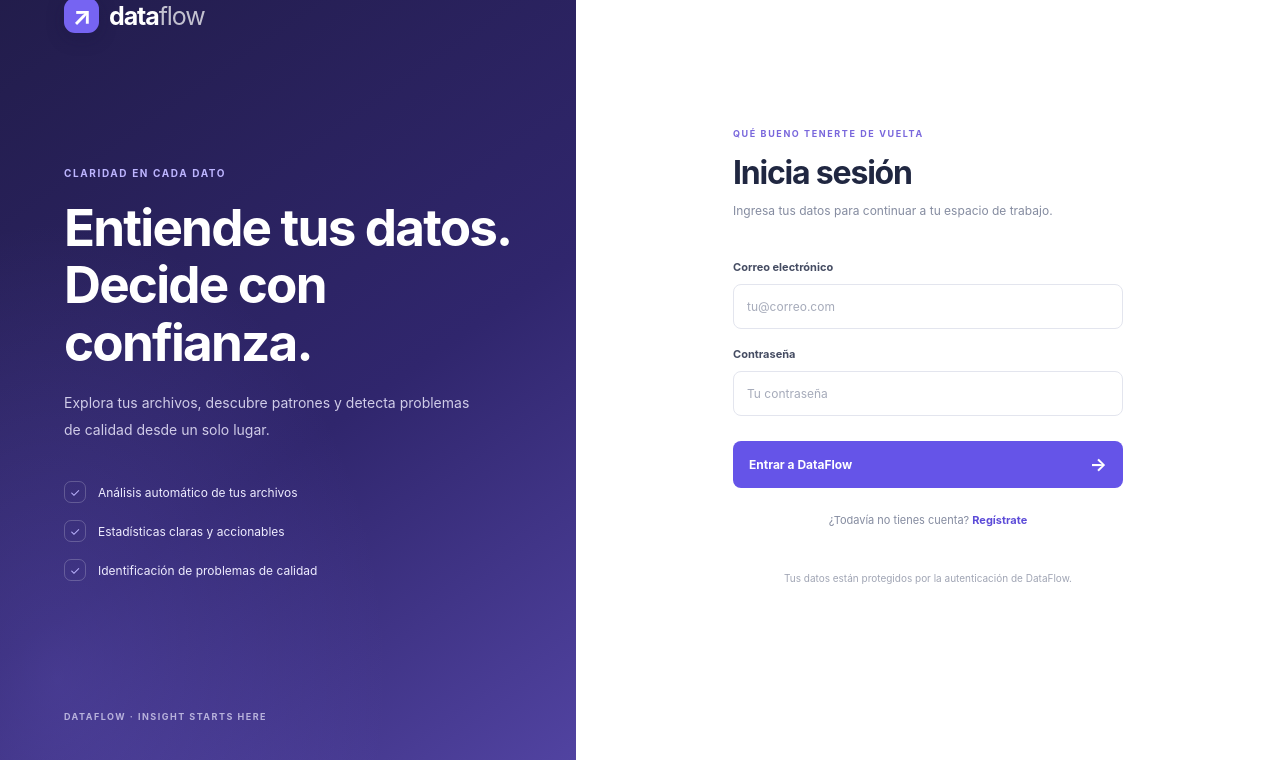
Test: App › cierra la sesión y elimina la sesión persistida
In the field labelled "Correo electrónico": (928,307) 733,284 -> 1123,329, type "test@dataflow.com"
In the password field labelled "Contraseña": (928,394) 733,371 -> 1123,416, type "password123"
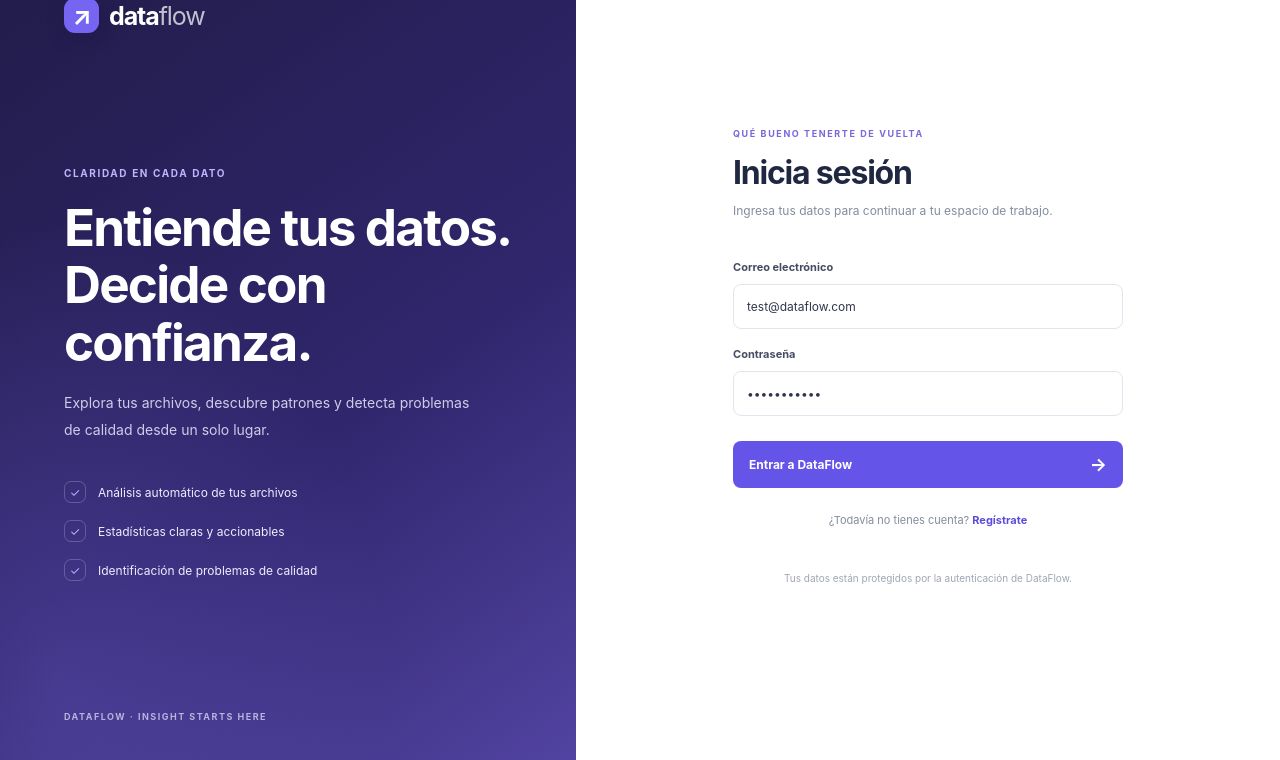
Click the button "Entrar a DataFlow →": (801,465) 733,441 -> 1123,488
(page scrolled)
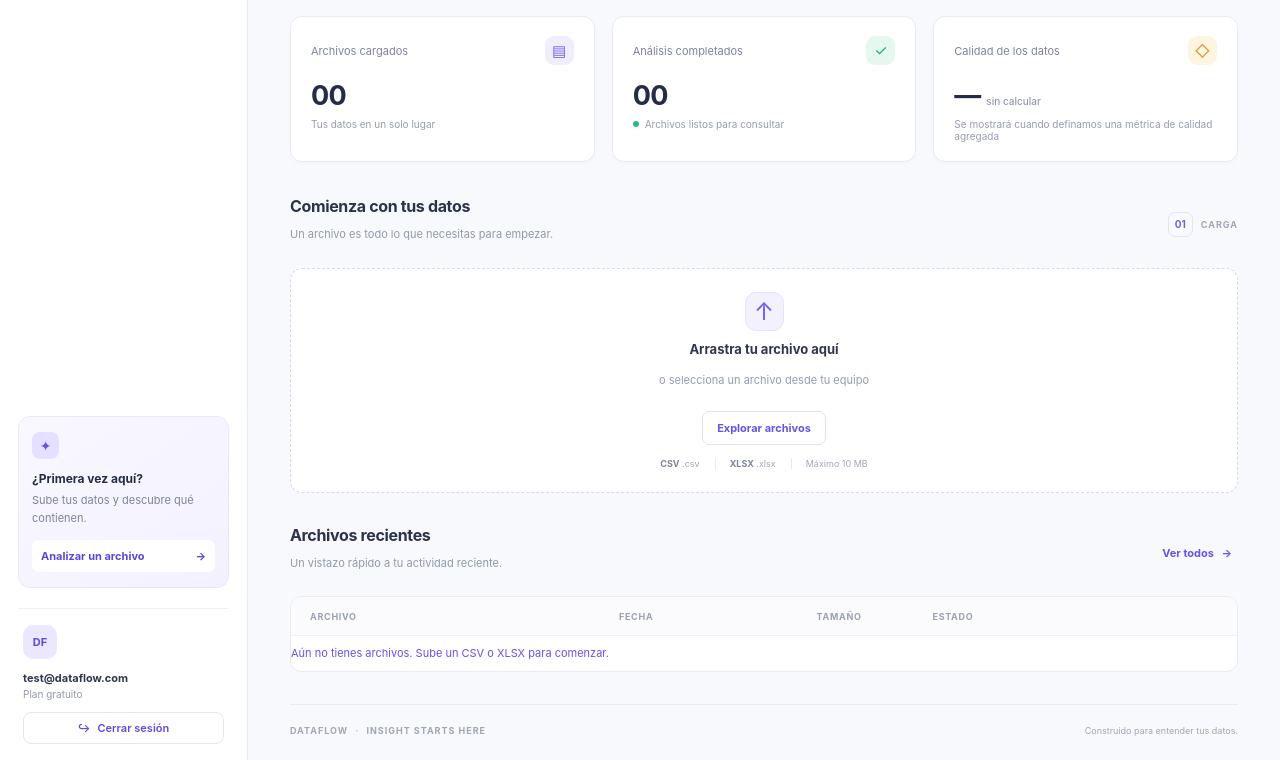
# Abrir el diálogo de confirmación.
Click the button "↪ Cerrar sesión": (124,728) 23,712 -> 224,744
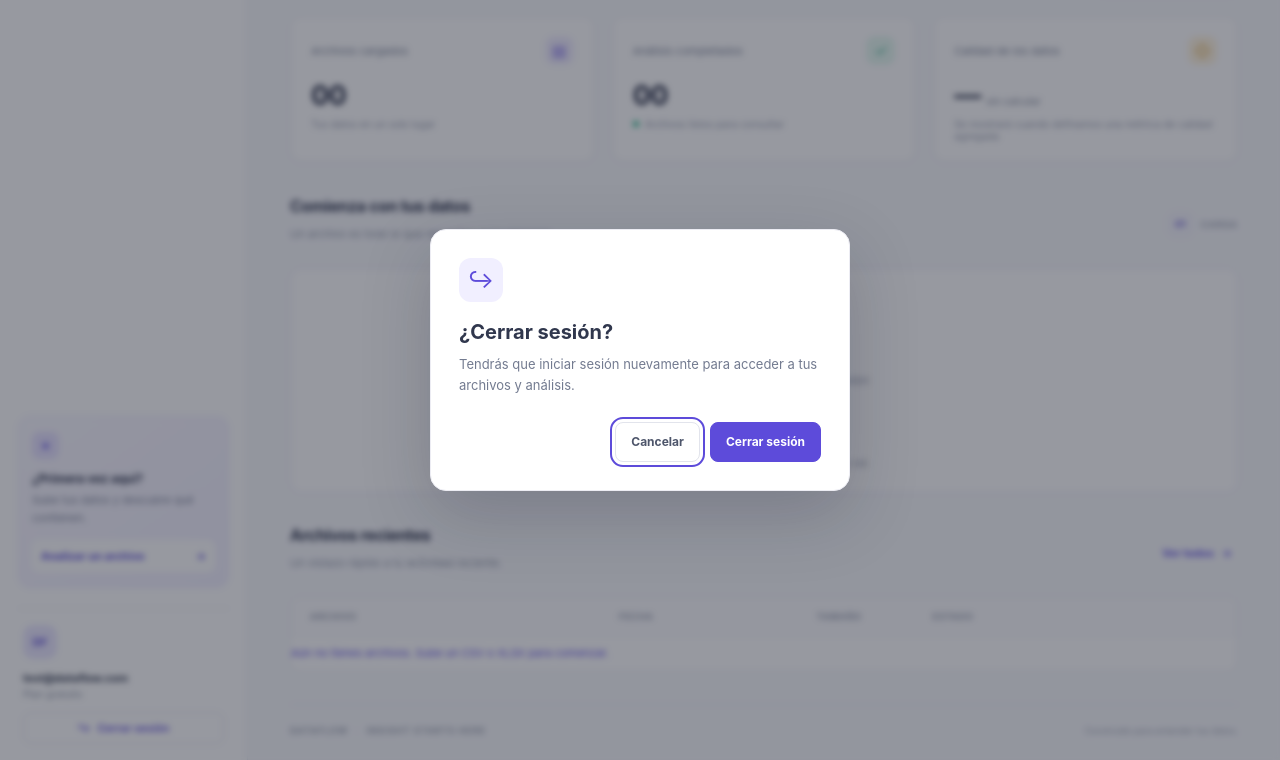
Expected: the dialog is shown, 430,229 -> 850,491
Expected: the heading "¿Cerrar sesión?" is shown, 459,320 -> 613,344
# Cancelar no debe cerrar la sesión.
Click the button "Cancelar": (658,442) 615,422 -> 700,462
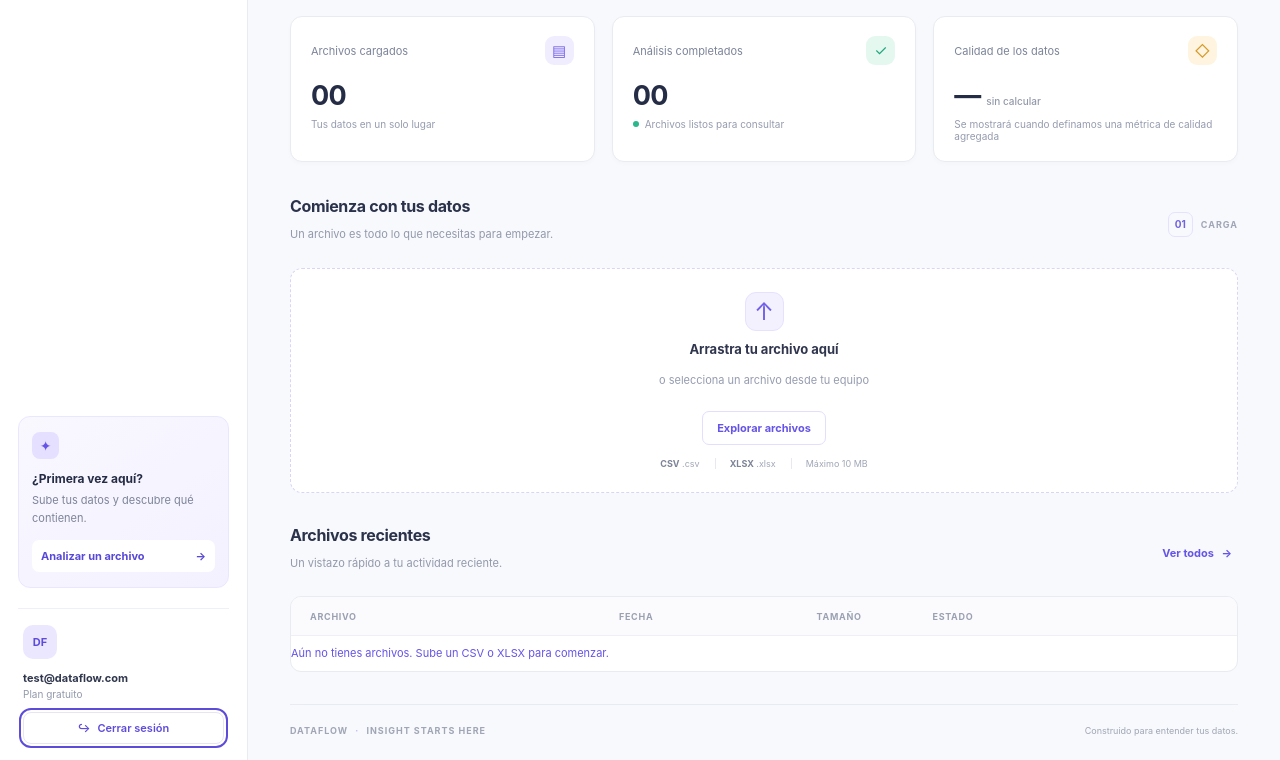
Expected: the dialog is gone
# Volver a abrir el diálogo y confirmar el cierre.
Click the button "↪ Cerrar sesión": (124,728) 23,712 -> 224,744
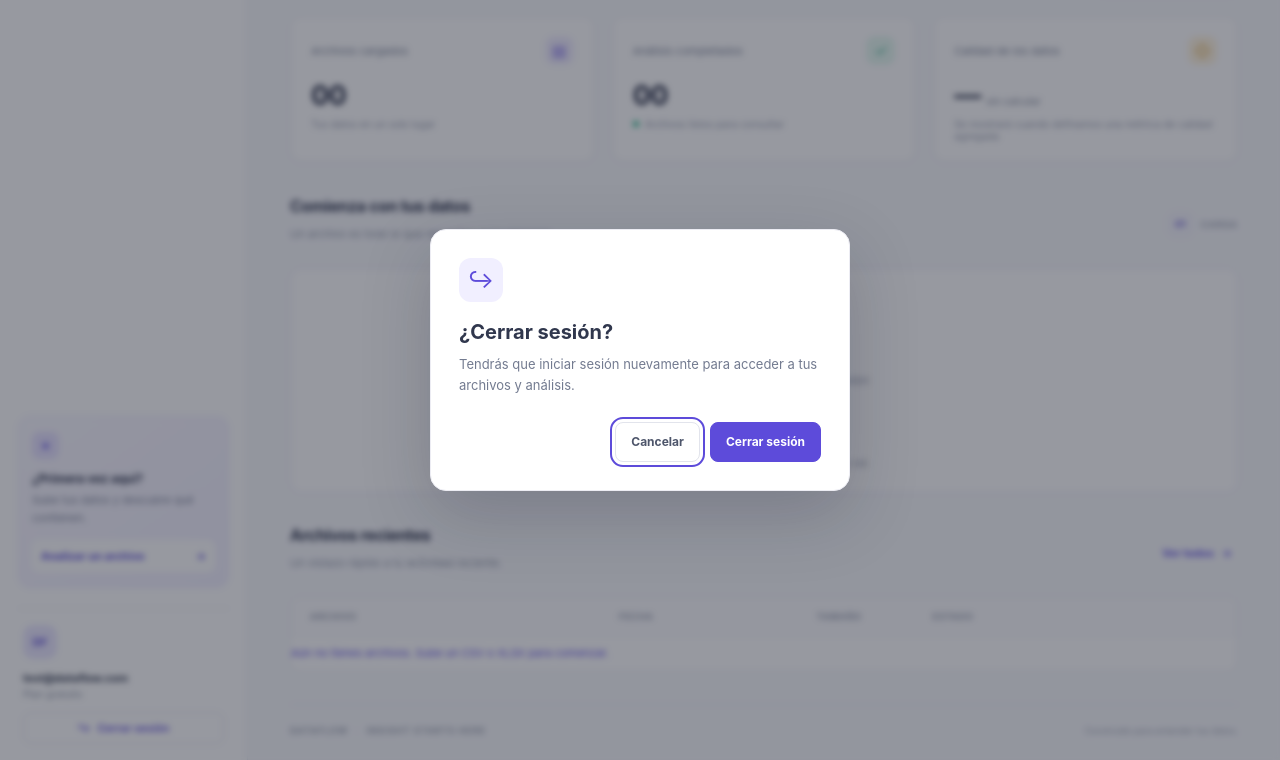
Expected: the dialog is shown, 430,229 -> 850,491
Click the button with aria-label "Confirmar cierre de sesión": (765,442) 710,422 -> 821,462
(page scrolled)
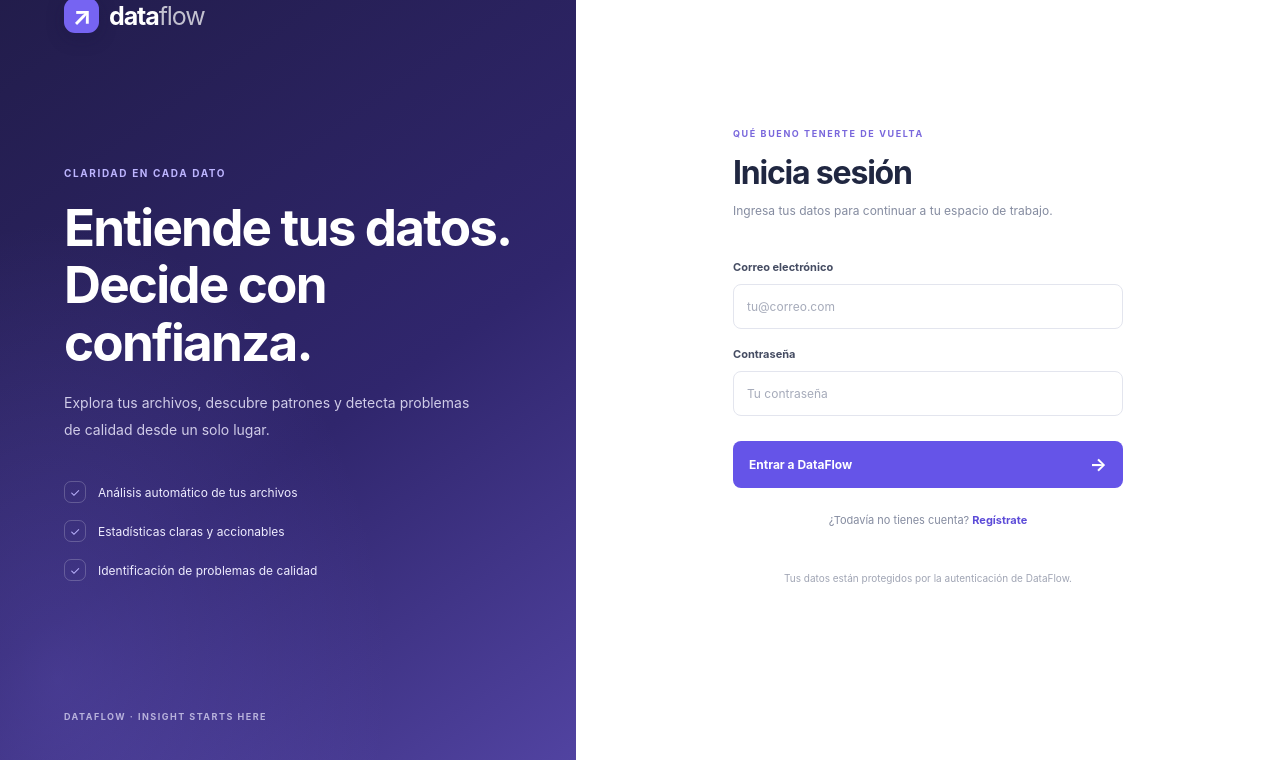
Expected: the heading "Inicia sesión" is shown, 733,153 -> 912,192
